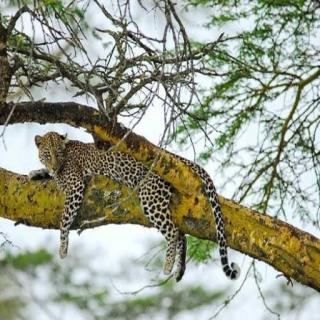Leopard: (20, 127, 236, 285)
